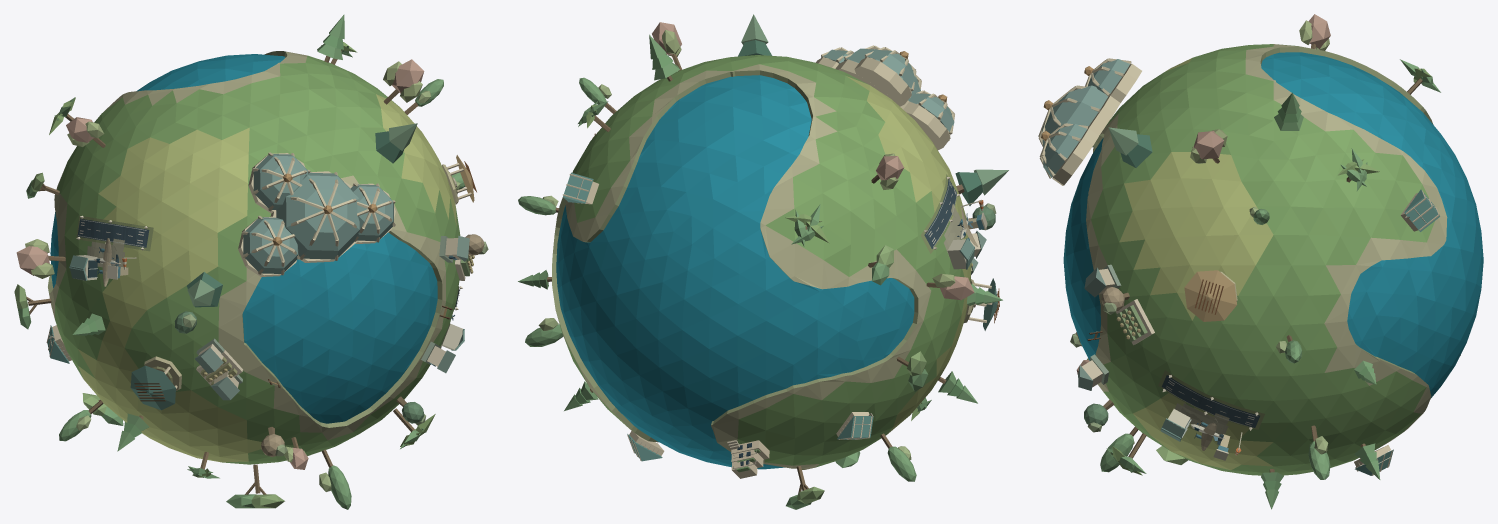
File: earth.glb
3 views of the same model, side by side, from view 1: azimuth 30°, elevation 25°; view 2: azimuth 150°, elevation 25°; view 3: azimuth 270°, elevation 25° (orthographic). The views are drawn at different scales.
Visible parts, largest first — view 1: Terrain • modeled surfaces, Structures • modeled surfaces, Activity_regional-plane_stops • modeled surfaces; view 2: Terrain • modeled surfaces, Structures • modeled surfaces, Activity_regional-plane_stops • modeled surfaces; view 3: Terrain • modeled surfaces, Structures • modeled surfaces, Activity_regional-plane_stops • modeled surfaces.
Boxes of the visible parts, bbox=[...] form: Terrain • modeled surfaces: bbox=[48, 51, 460, 464]; Structures • modeled surfaces: bbox=[14, 14, 488, 509]; Activity_regional-plane_stops • modeled surfaces: bbox=[69, 215, 464, 350]; Terrain • modeled surfaces: bbox=[552, 55, 971, 469]; Structures • modeled surfaces: bbox=[518, 14, 1008, 509]; Activity_regional-plane_stops • modeled surfaces: bbox=[921, 174, 987, 269]; Terrain • modeled surfaces: bbox=[1063, 44, 1483, 475]; Structures • modeled surfaces: bbox=[1038, 14, 1460, 509]; Activity_regional-plane_stops • modeled surfaces: bbox=[1158, 370, 1264, 460].
Bounding box in the file's own units: 2.54 × 2.28 × 2.09.
